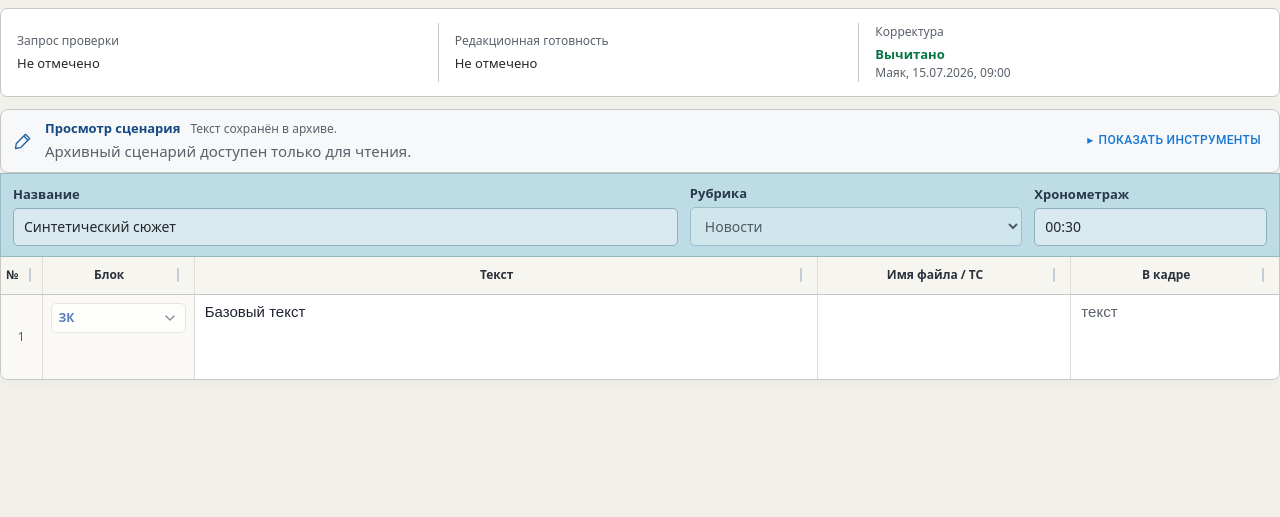
it: ScenarioEditor autosave › keeps find available read-only without intercepting the unavailable replace shortcut
Click the button "Показать инструменты" at (1174, 141), box x1=1081 y1=126 x2=1267 y2=155
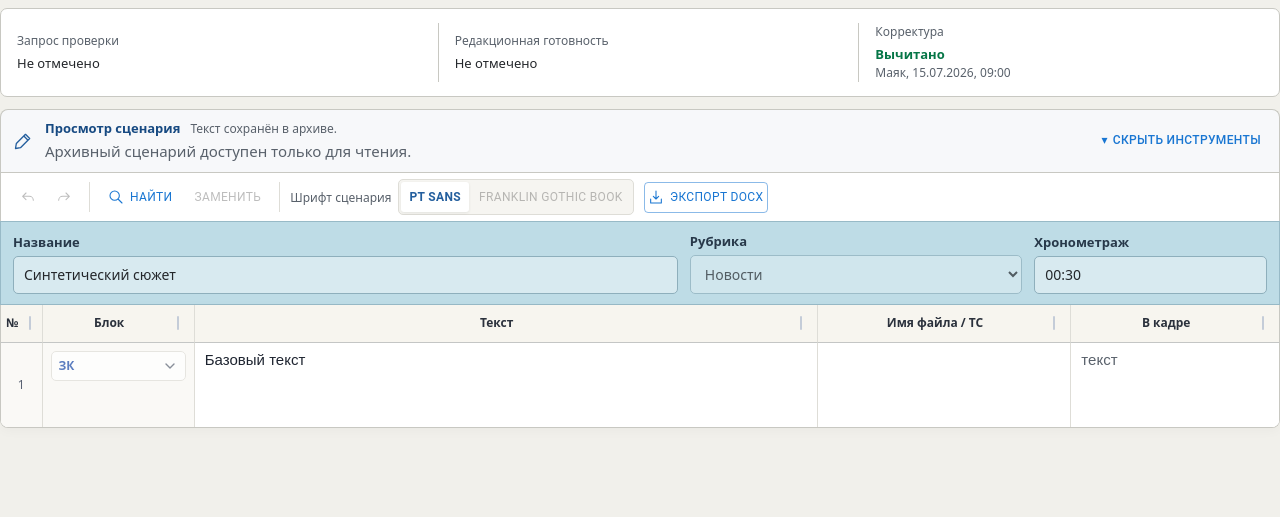
Now the button "Скрыть инструменты" is shown, box x1=1095 y1=126 x2=1267 y2=155
Now the button "Найти" is enabled, box x1=100 y1=182 x2=180 y2=212
Now the button with aria-label "Найти и заменить" is disabled, box x1=186 y1=182 x2=269 y2=212
Press h in the field named "Текст блока 1", box x1=205 y1=351 x2=305 y2=368
Press f in the field named "Текст блока 1", box x1=205 y1=351 x2=305 y2=368
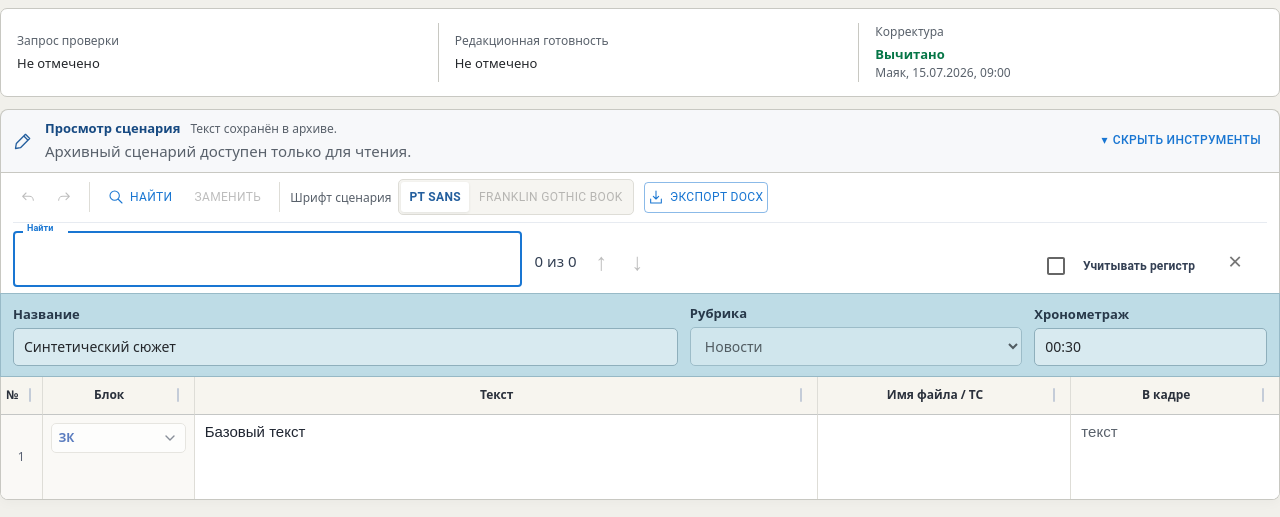
Now the element named "Найти и заменить" is shown, box x1=13 y1=222 x2=1267 y2=287
